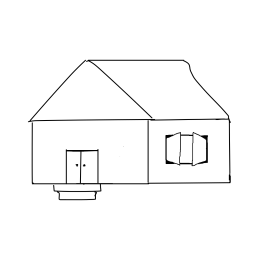door: (61, 147, 104, 188)
open_window: (164, 132, 207, 165)
roof: (24, 56, 237, 126)
wall: (28, 117, 154, 187)
